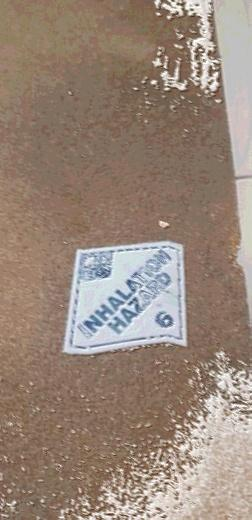poison: (66, 235, 190, 353)
